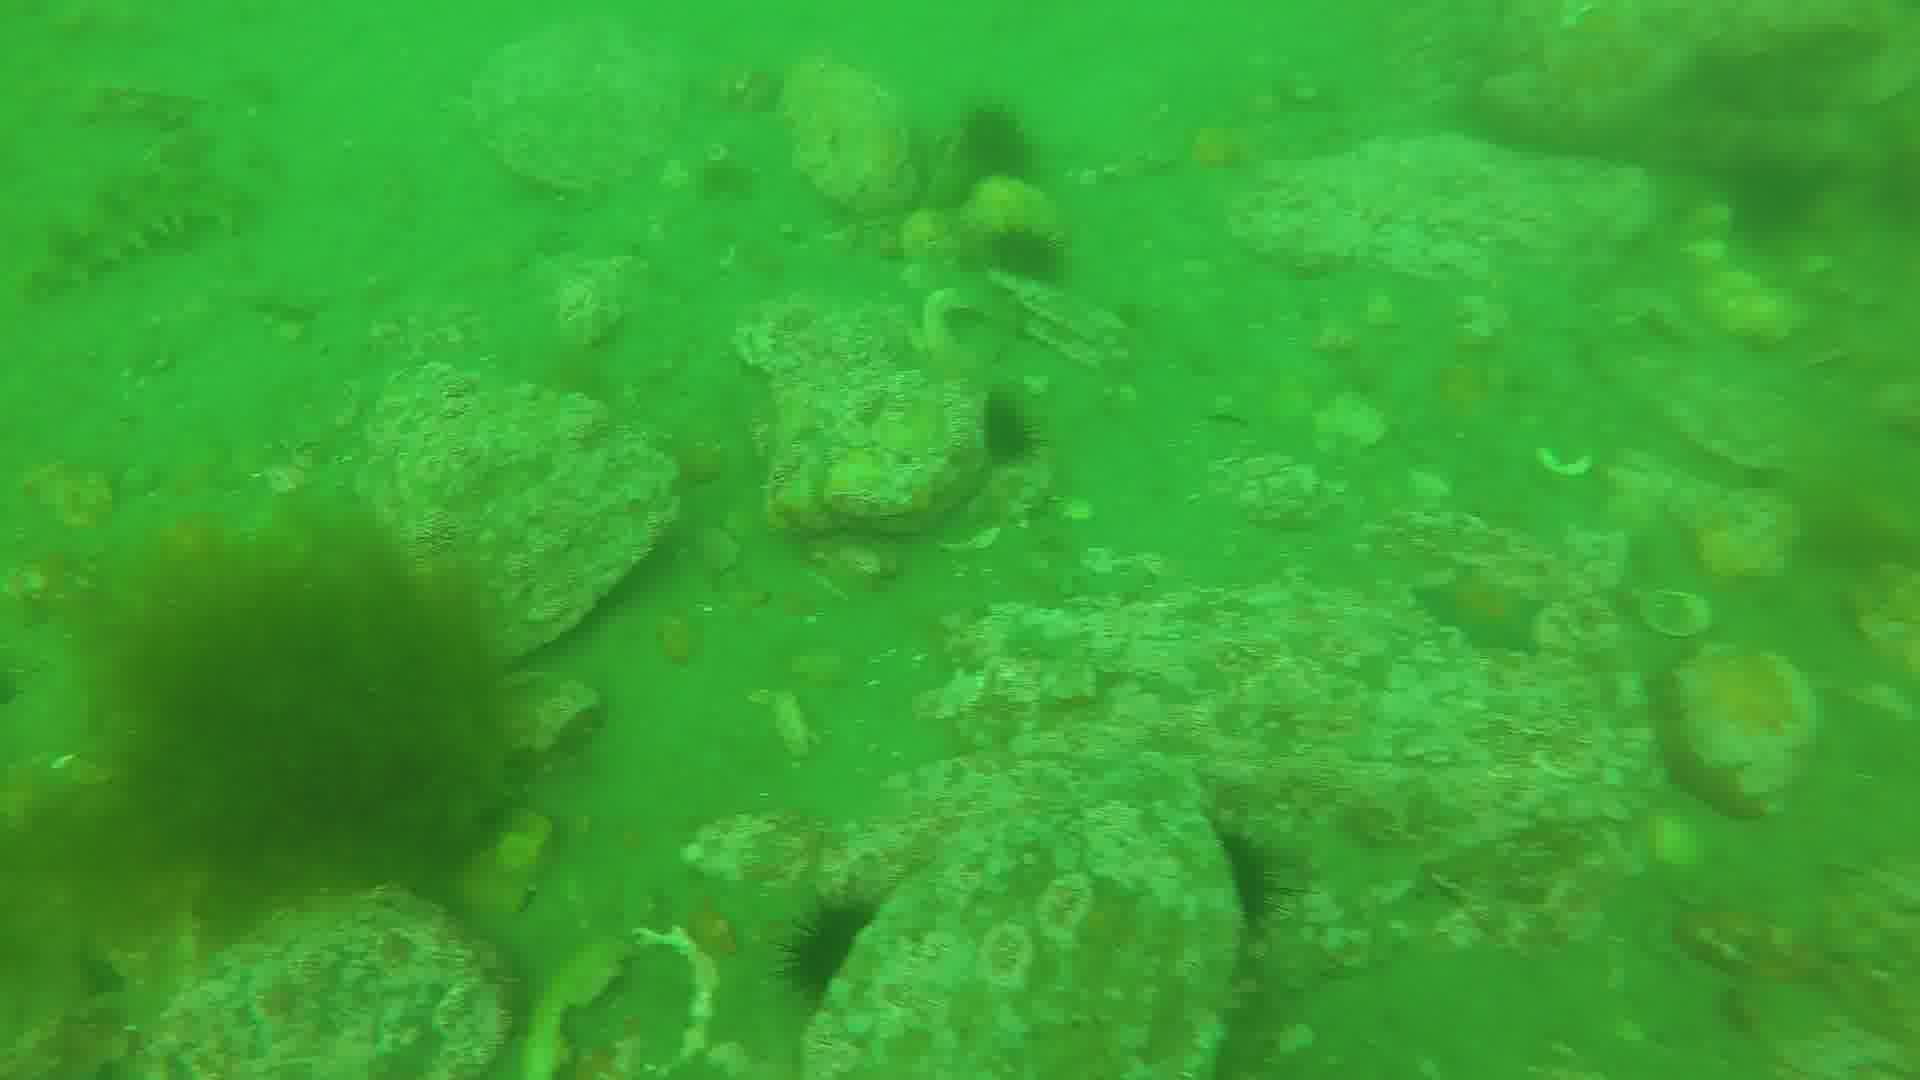echinus: (1200, 818, 1302, 938), (1720, 144, 1836, 243), (802, 894, 913, 986), (969, 394, 1058, 480), (984, 224, 1076, 298), (961, 111, 1046, 179)
holothurian: (26, 181, 243, 293)
